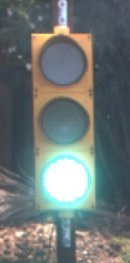Green: (22, 26, 98, 230)
